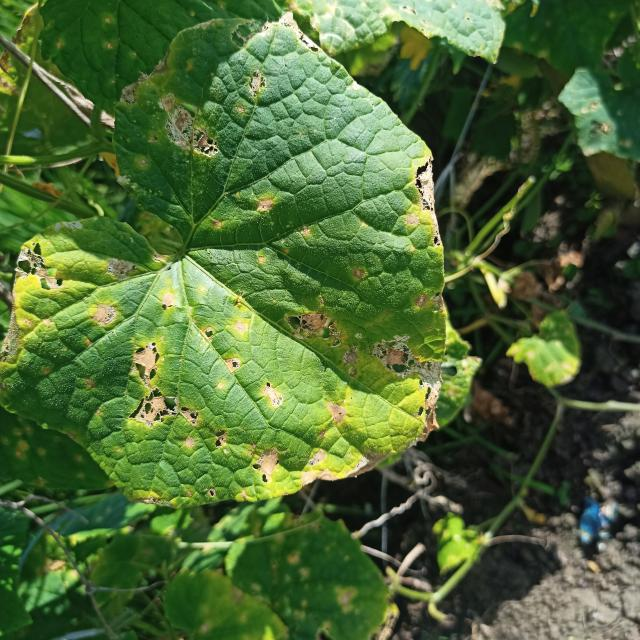disease_cucumber: (18, 13, 444, 503)
